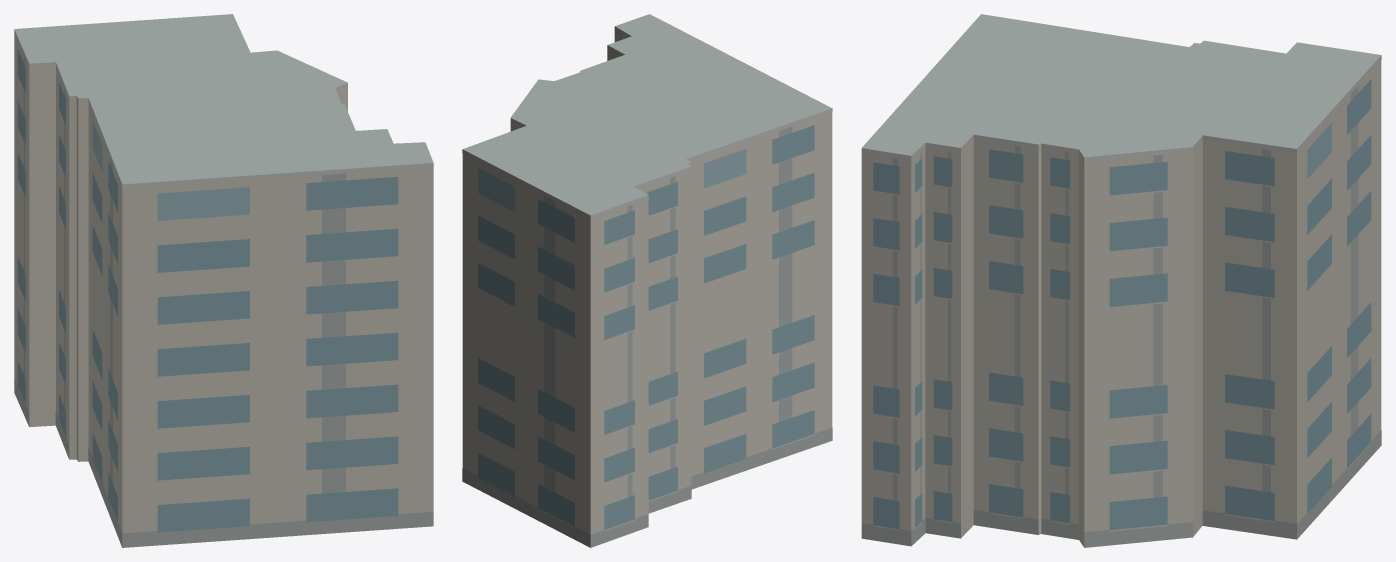
File: survey-upis-33042554.glb
3 views of the same model, side by side, from view 1: azimuth 30°, elevation 25°; view 2: azimuth 150°, elevation 25°; view 3: azimuth 270°, elevation 25° (orthographic). The views are drawn at different scales.
Visible parts, largest first — view 1: survey-upis-33042554.tmp; view 2: survey-upis-33042554.tmp; view 3: survey-upis-33042554.tmp.
Part boxes in pixels (left/top/right/bottom): survey-upis-33042554.tmp: left=14, top=14, right=433, bottom=547; survey-upis-33042554.tmp: left=462, top=14, right=832, bottom=547; survey-upis-33042554.tmp: left=861, top=14, right=1381, bottom=547.
Bounding box in the file's own units: 15.52 × 19.7 × 23.78.
